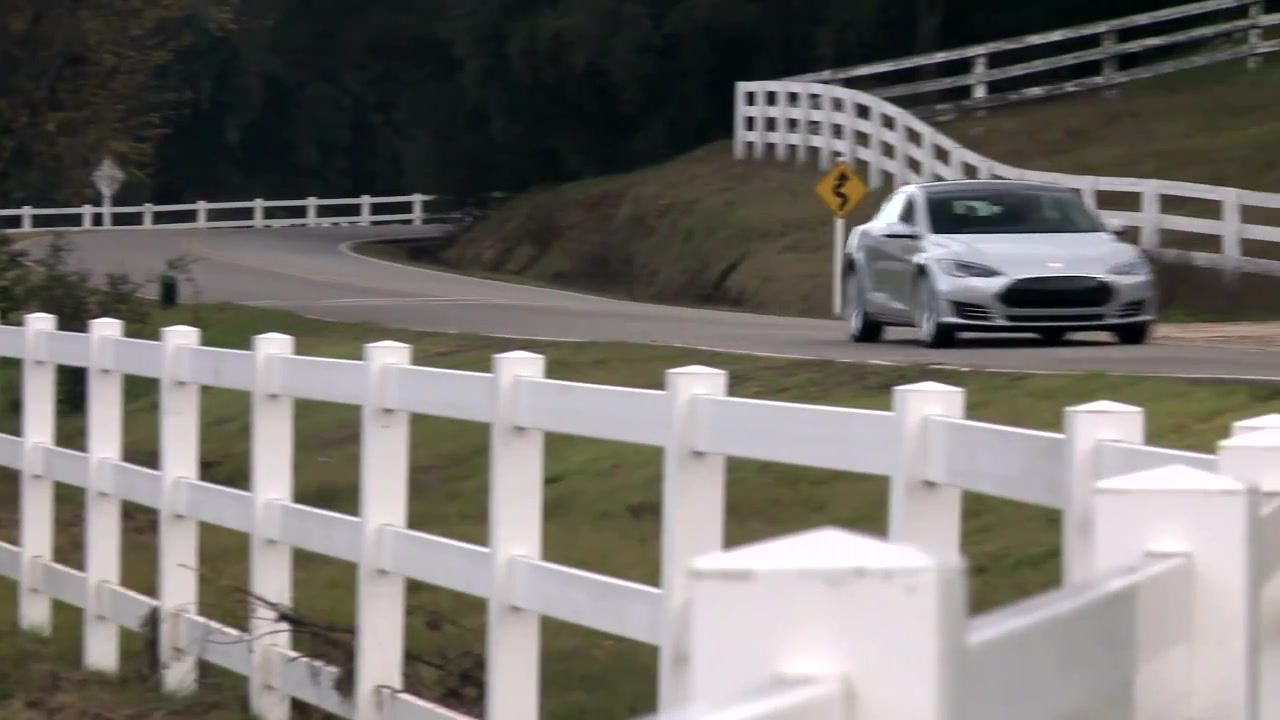car: (840, 174, 1159, 347)
